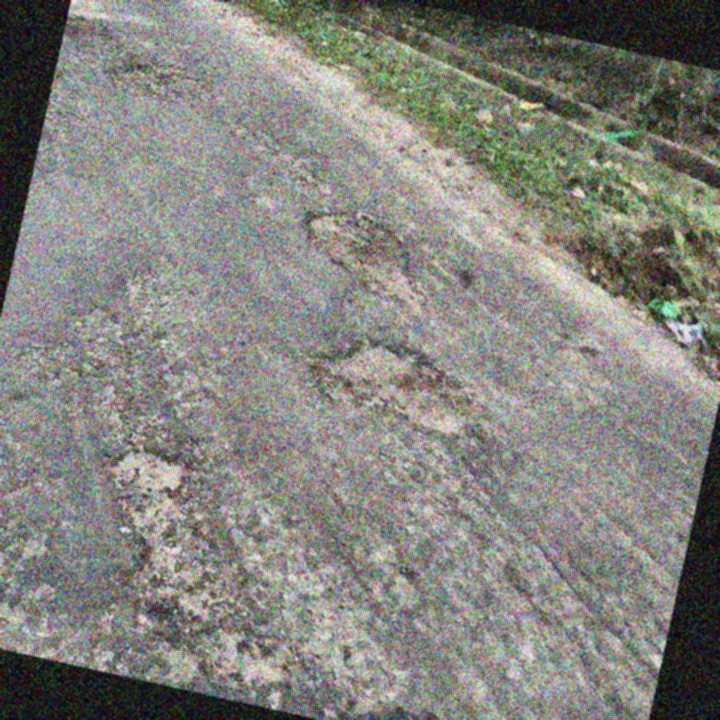pothole: (296, 320, 489, 446), (283, 198, 435, 311), (98, 434, 193, 510), (107, 47, 206, 110), (63, 8, 119, 49)
